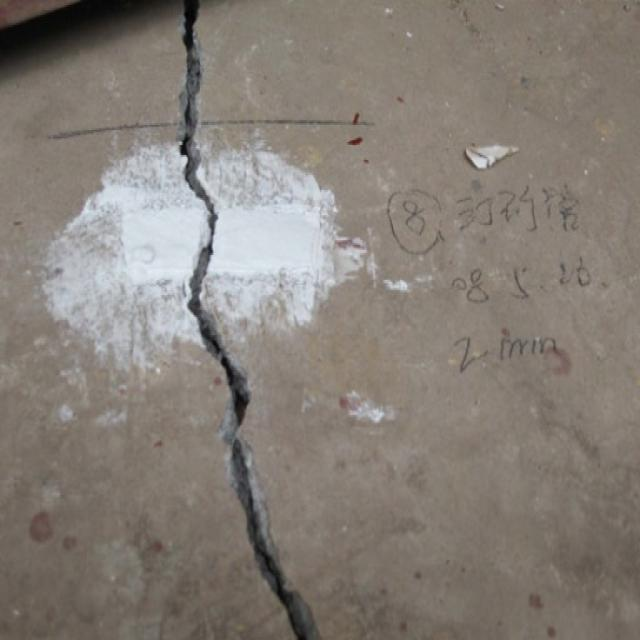Longitudinal: (171, 0, 328, 640)
